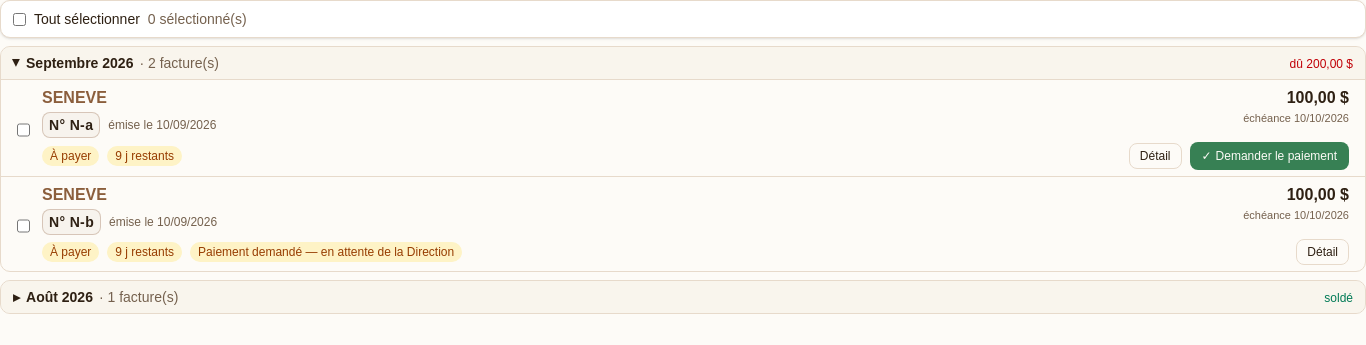
droits de la barre d'actions groupées › hors Direction : « Demander le paiement », jamais « Marquer payées » ni « Supprimer »
This screenshot has width=1366, height=345.
Step 1. Click the checkbox labelled "Tout sélectionner" → click(20, 19), box [13, 12, 26, 26]
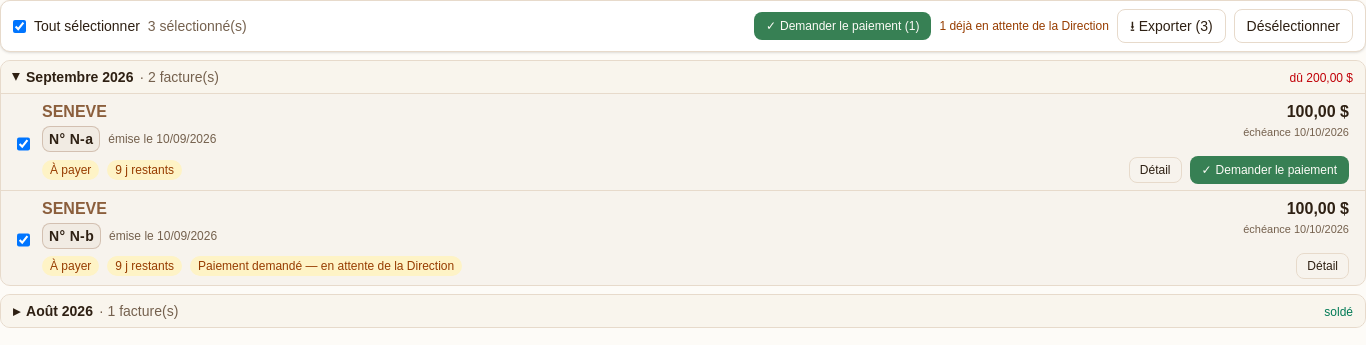
expect the button "✓ Demander le paiement (1)" is shown: met, box [754, 12, 931, 40]
expect the text "1 déjà en attente de la Direction" is shown: met, box [939, 18, 1109, 34]
